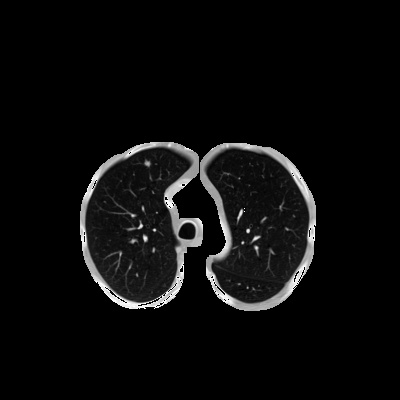PN: (143, 159, 151, 167)
